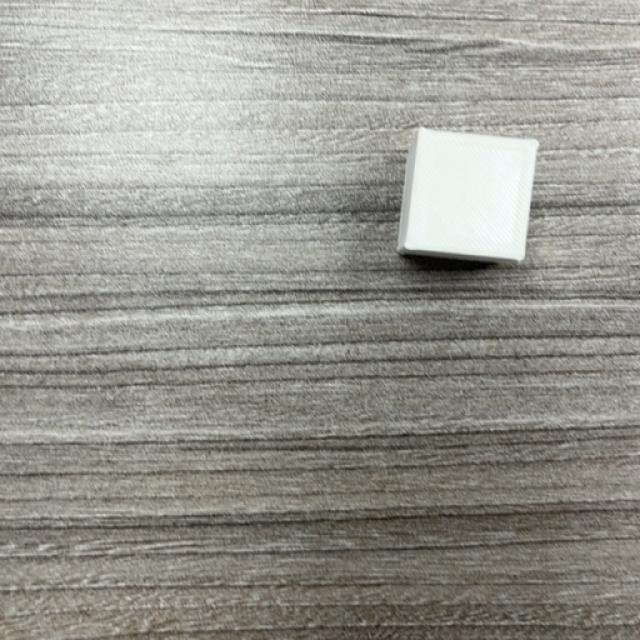Blanco: (396, 128, 539, 268)
